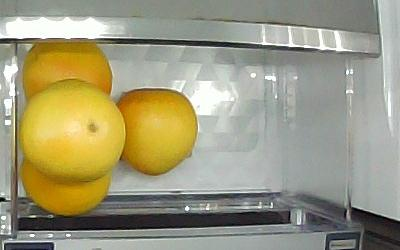grapefruit: (21, 79, 126, 180), (115, 90, 198, 175), (20, 154, 112, 216), (23, 46, 113, 109)
